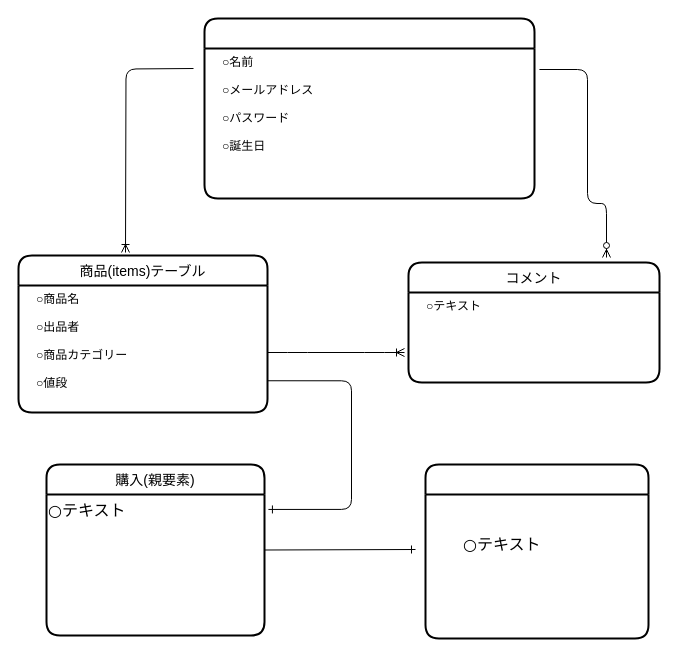
Some shapes in this 677 by 656 pixel diagram are drawn without their labels. The box of each missing label's shape, as (x1, y1, x2, y2) in pixels:
ユーザーテーブル: (203, 17, 535, 199)
購入者の住所(子要素): (424, 463, 649, 639)
